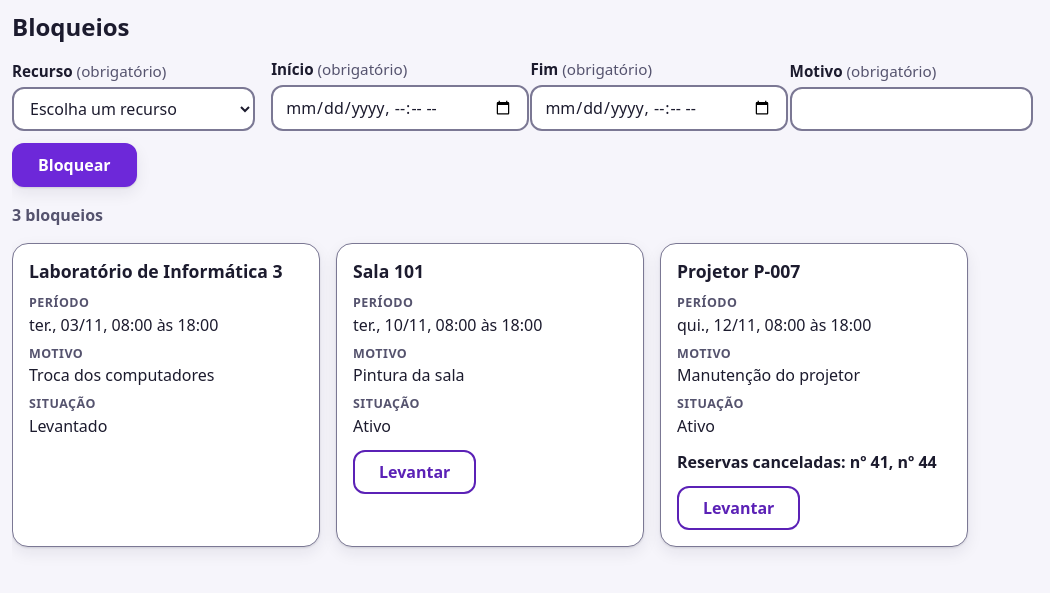
it: PaginaDeBloqueios: novo bloqueio (RN-22) › Bloquear em branco aponta o que falta, leva o foco ao primeiro campo e não envia nada
Expected: the element "Sala 101" is shown, [336,243,644,547]
Click the button "Bloquear".
click(74, 165)  # box [12,143,137,187]
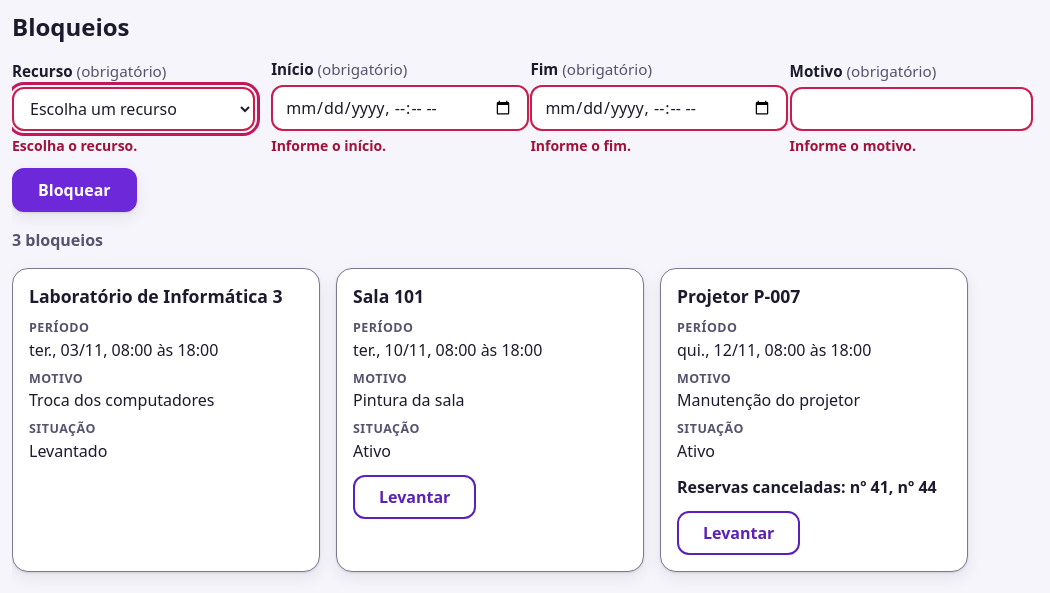
Result: the text "Escolha o recurso." is shown at [12,136,137,155]
Result: the text "Informe o início." is shown at [271,136,386,155]
Result: the text "Informe o fim." is shown at [530,136,631,155]
